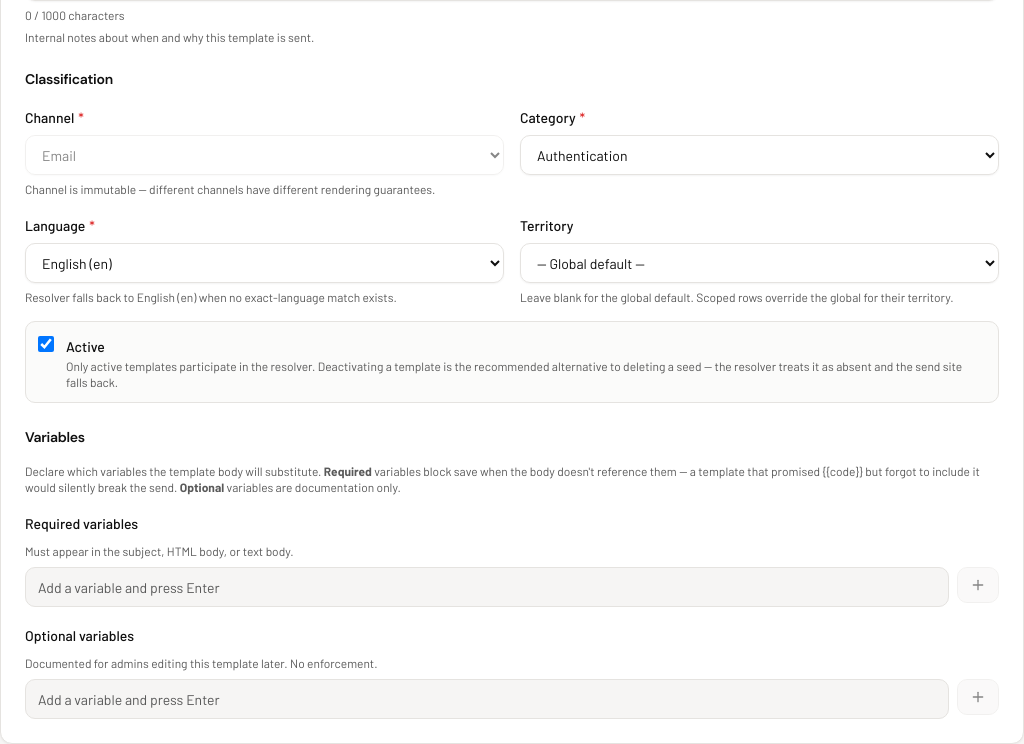
it: variable chip editor › rejects a variable name with invalid characters
(page scrolled)
In the field with placeholder "Add a variable and press Enter": coordinates (487, 587) [25,567,949,607], type "bad name"
Then press Enter
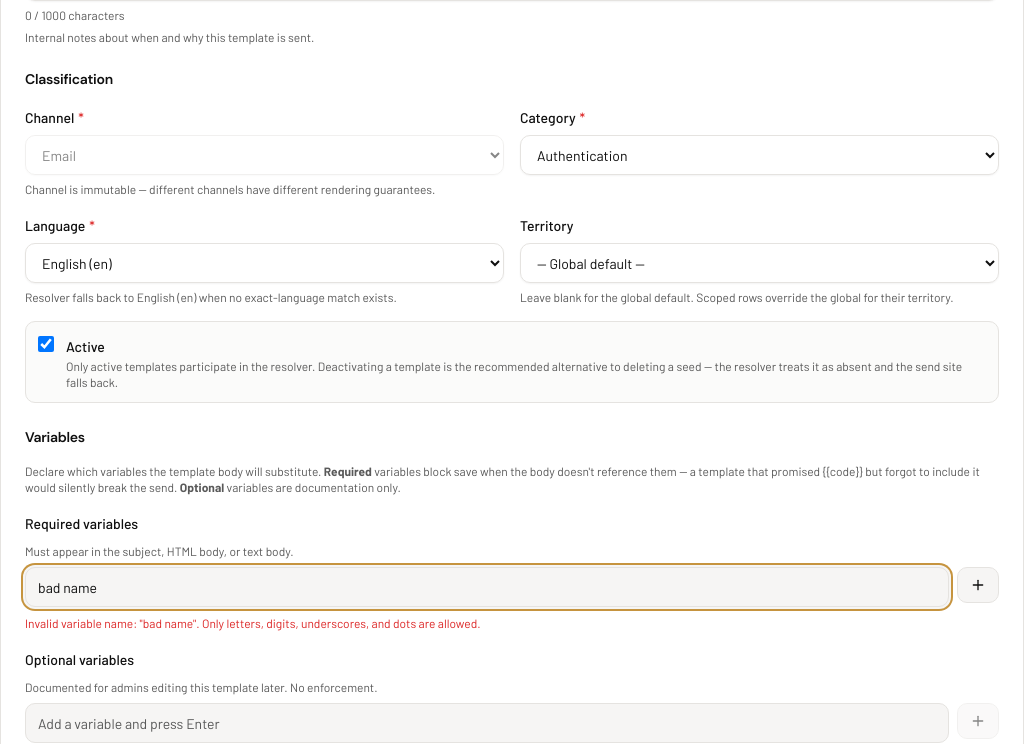
Check: the message shows "Invalid variable name", box [25,616,480,630]
